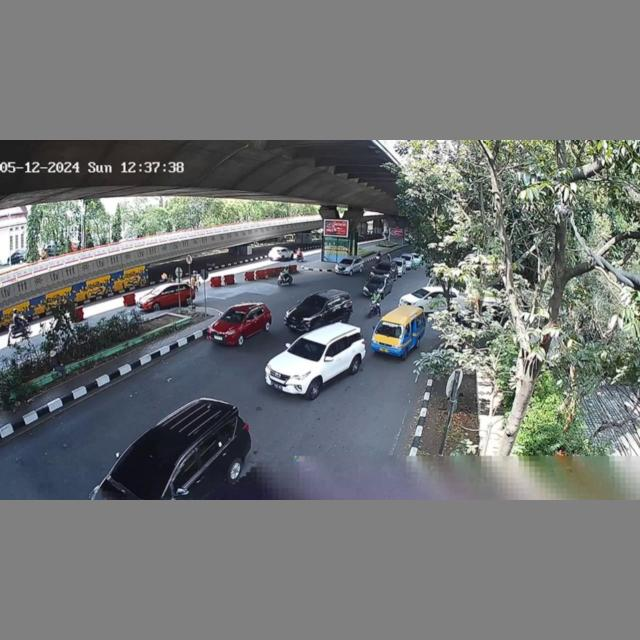windshield: (287, 336, 325, 361), (298, 295, 326, 310), (221, 309, 246, 324)
